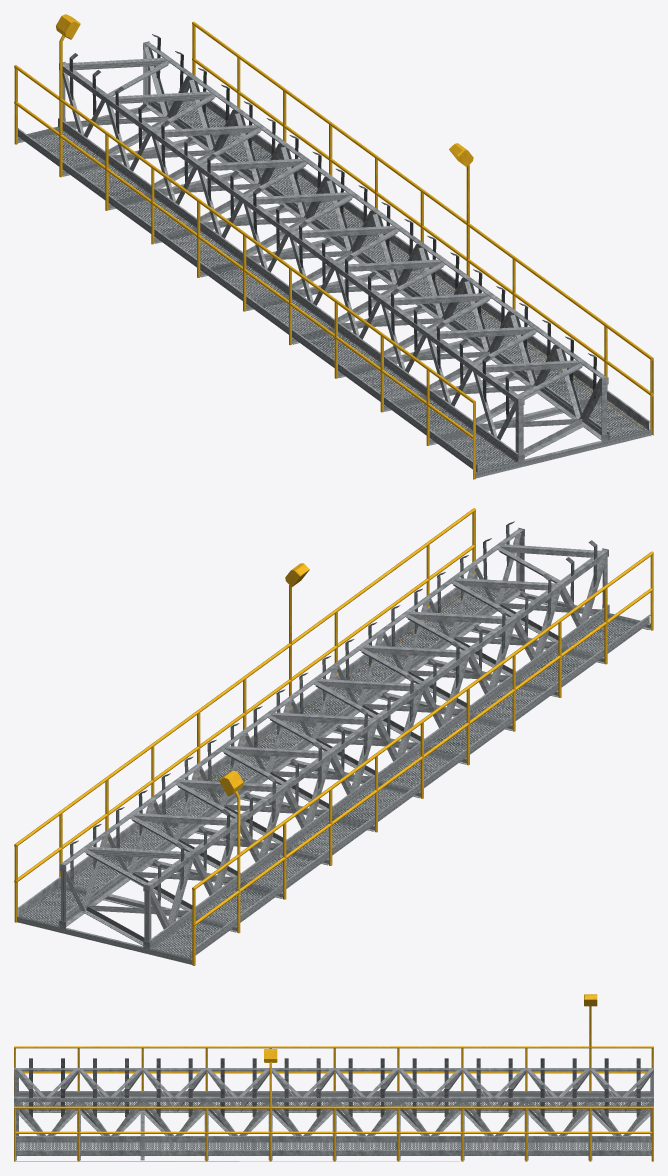
File: Conveyor_Structure.obj
The picture shows the model from 3 angles, top to bottom: view 1: azimuth 30°, elevation 25°; view 2: azimuth 150°, elevation 25°; view 3: azimuth 270°, elevation 25°; orthographic projection. The views are drawn at different scales.
Parts seen in each view (by area): view 1: Conveyor_Structure; view 2: Conveyor_Structure; view 3: Conveyor_Structure.
Boxes of the visible parts, x1,y1,x2,y2 form: Conveyor_Structure: (14, 14, 653, 479); Conveyor_Structure: (14, 508, 653, 965); Conveyor_Structure: (14, 994, 653, 1161).
Bounding box in the file's own units: 2.77 × 2.29 × 12.2.
Materials: 4 (4 with a texture image).
